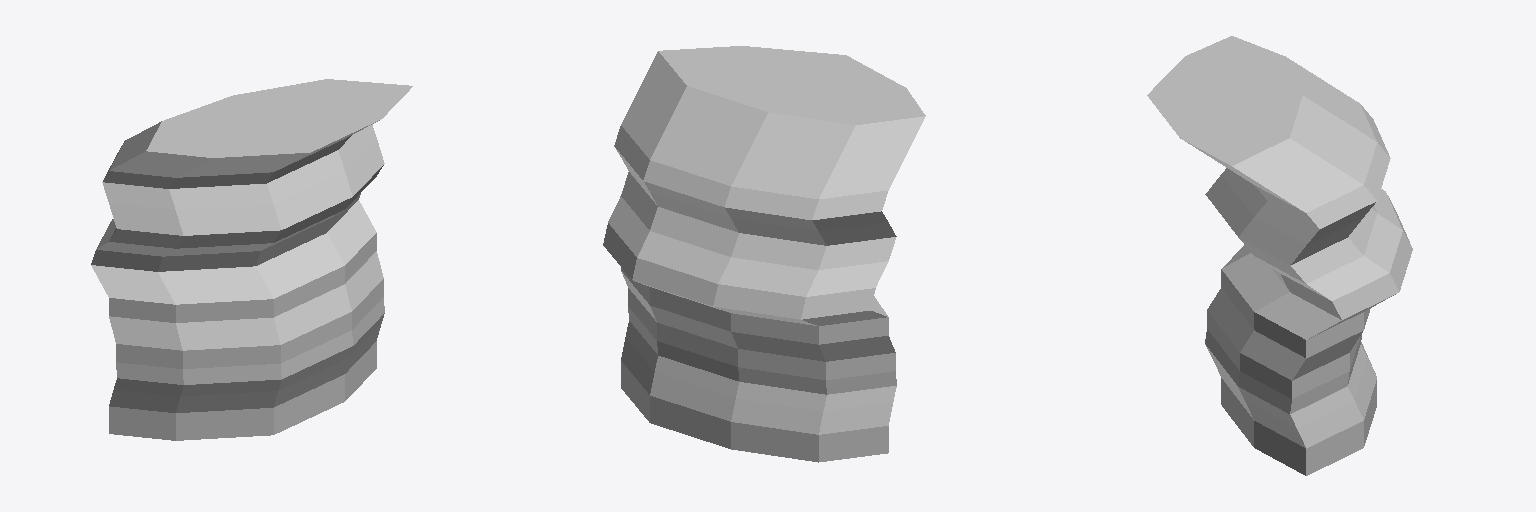
File: trunk.obj
3 renders of one model, left to right at view 1: azimuth 30°, elevation 25°; view 2: azimuth 150°, elevation 25°; view 3: azimuth 270°, elevation 25°, orthographic.
Visible parts, largest first — view 1: pCube1; view 2: pCube1; view 3: pCube1.
Part boxes in pixels (left/top/right/bottom): pCube1: left=91, top=79, right=412, bottom=440; pCube1: left=603, top=46, right=925, bottom=462; pCube1: left=1147, top=36, right=1412, bottom=475.
Size of the model in its own units: 25.52 by 28.22 by 21.96.